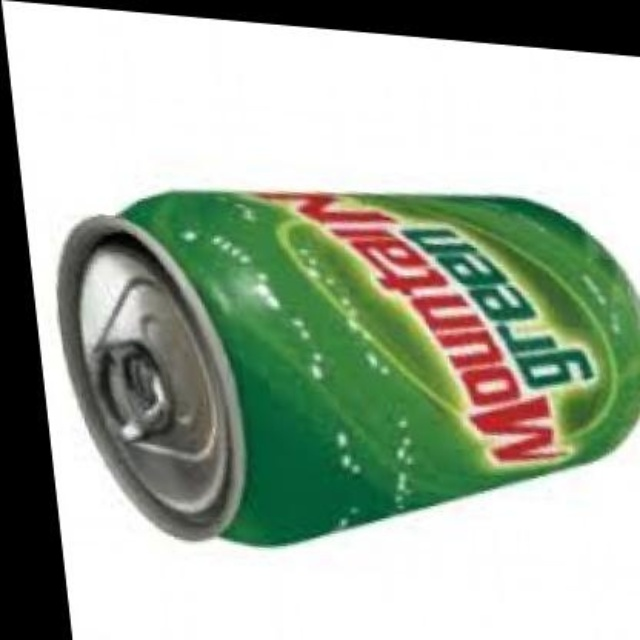trash: (58, 192, 638, 543)
